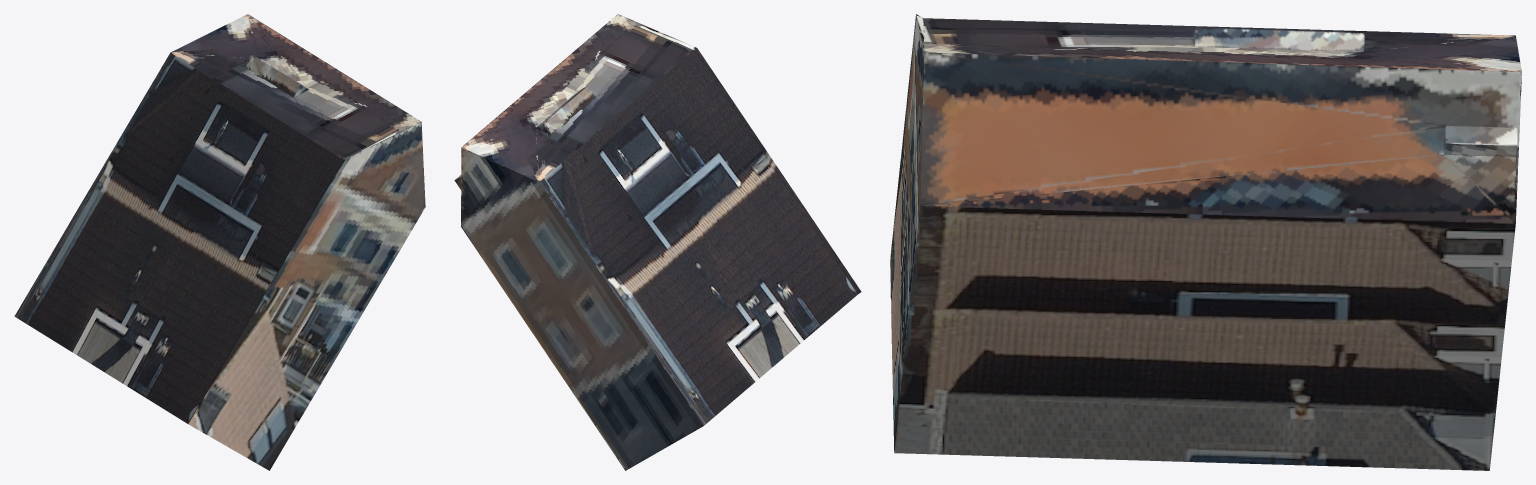
3 views of the same model, side by side, from view 1: azimuth 30°, elevation 25°; view 2: azimuth 150°, elevation 25°; view 3: azimuth 270°, elevation 25° (orthographic). The views are drawn at different scales.
Parts seen in each view (by area): view 1: BAG_0599100000688731 (×4); view 2: BAG_0599100000688731 (×5); view 3: BAG_0599100000688731 (×7).
Boxes of the visible parts, box(x1,y1,x2,y2) form: BAG_0599100000688731 (×4): box(14, 14, 425, 470); BAG_0599100000688731 (×5): box(461, 14, 861, 470); BAG_0599100000688731 (×7): box(890, 14, 1521, 470).
Size of the model in its own units: 10.58 by 12.73 by 12.94.
Materials: 7 (7 with a texture image).
